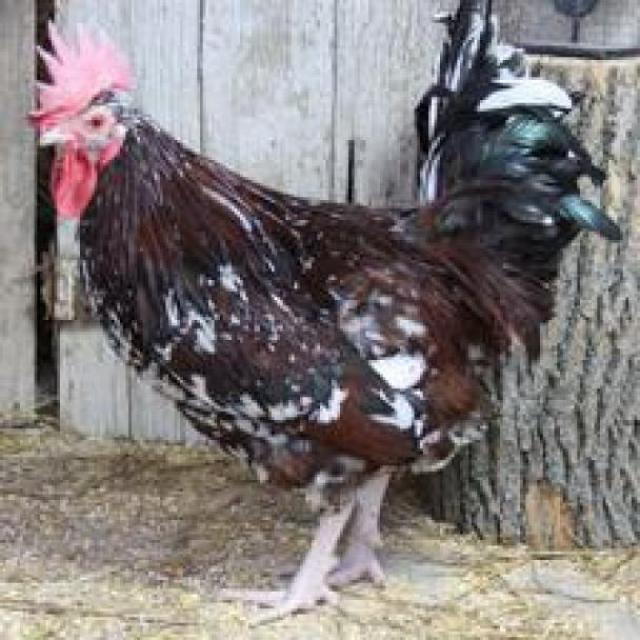Chicken: (3, 30, 637, 627)
